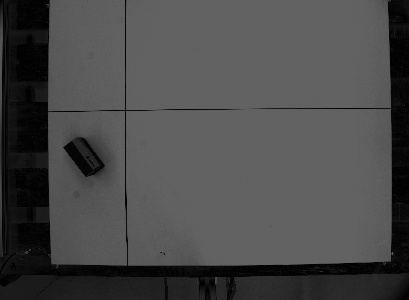b3: (60, 134, 105, 178)
